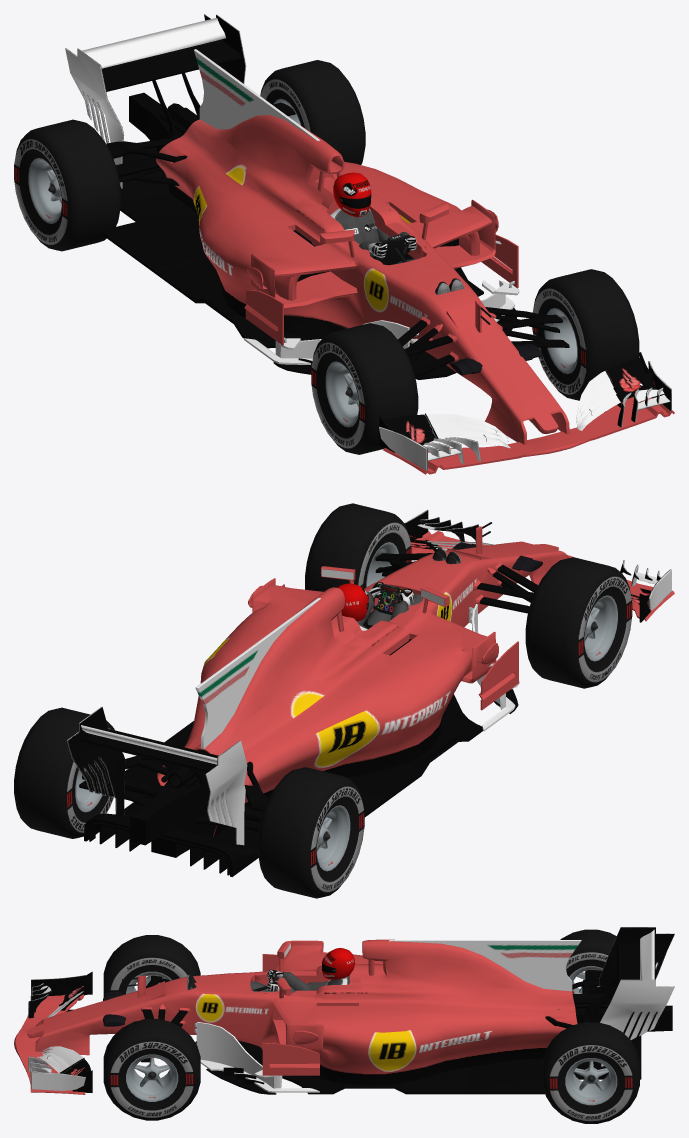
3 views of the same model, one above another, from view 1: azimuth 30°, elevation 25°; view 2: azimuth 150°, elevation 25°; view 3: azimuth 270°, elevation 25° (orthographic). The views are drawn at different scales.
Parts seen in each view (by area): view 1: F_3, RC_Tyre_V02_FR_MID__4_, RC_Tyre_V02_FR_MID__5_, RC_Tyre_V02_FR_MID__6_, RC_Tyre_V02_FR_MID__7_, RC_Pilot_in_the_car_V01_FREE__1_, RC_Pilot_Helmet_V01_FREE; view 2: F_3, RC_Tyre_V02_FR_MID__5_, RC_Tyre_V02_FR_MID__4_, RC_Tyre_V02_FR_MID__7_, RC_Tyre_V02_FR_MID__6_, RC_Pilot_in_the_car_V01_FREE__1_, RC_Pilot_Helmet_V01_FREE, RC_Steering_Wheel_V01__1_; view 3: F_3, RC_Tyre_V02_FR_MID__7_, RC_Tyre_V02_FR_MID__6_, RC_Tyre_V02_FR_MID__5_, RC_Tyre_V02_FR_MID__4_, RC_Pilot_in_the_car_V01_FREE__1_, RC_Pilot_Helmet_V01_FREE.
Part boxes in pixels (x1,y1,x2,y2): F_3: [65, 14, 674, 474]; RC_Tyre_V02_FR_MID__4_: [14, 119, 120, 251]; RC_Tyre_V02_FR_MID__5_: [311, 323, 418, 454]; RC_Tyre_V02_FR_MID__6_: [532, 269, 639, 400]; RC_Tyre_V02_FR_MID__7_: [260, 60, 365, 164]; RC_Pilot_in_the_car_V01_FREE__1_: [330, 208, 464, 294]; RC_Pilot_Helmet_V01_FREE: [333, 172, 371, 217]; F_3: [67, 509, 674, 876]; RC_Tyre_V02_FR_MID__5_: [525, 557, 632, 688]; RC_Tyre_V02_FR_MID__4_: [258, 767, 364, 898]; RC_Tyre_V02_FR_MID__7_: [14, 707, 114, 838]; RC_Tyre_V02_FR_MID__6_: [305, 503, 411, 591]; RC_Pilot_in_the_car_V01_FREE__1_: [357, 548, 461, 630]; RC_Pilot_Helmet_V01_FREE: [337, 583, 368, 621]; RC_Steering_Wheel_V01__1_: [373, 584, 406, 614]; F_3: [14, 927, 674, 1094]; RC_Tyre_V02_FR_MID__7_: [542, 1022, 639, 1123]; RC_Tyre_V02_FR_MID__6_: [103, 1019, 200, 1120]; RC_Tyre_V02_FR_MID__5_: [103, 935, 200, 994]; RC_Tyre_V02_FR_MID__4_: [560, 929, 616, 993]; RC_Pilot_in_the_car_V01_FREE__1_: [187, 969, 349, 992]; RC_Pilot_Helmet_V01_FREE: [321, 948, 354, 979].
Size of the model in its own units: 2004 by 1082 by 4967.
